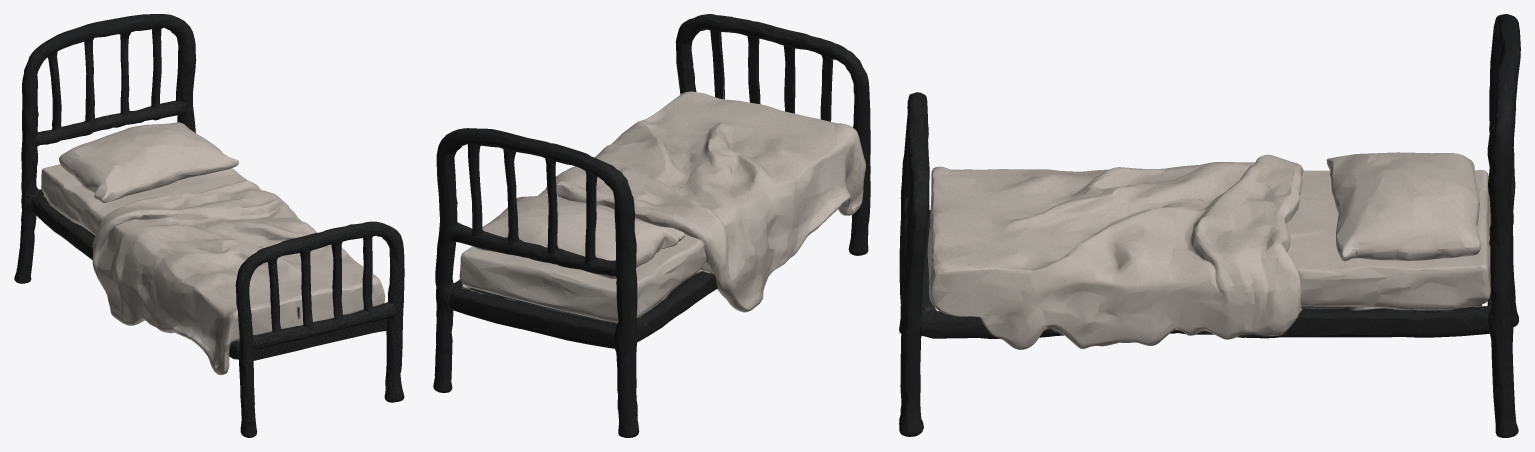
Rendered from letto_ferro.glb.
3 renders of one model, left to right at view 1: azimuth 30°, elevation 25°; view 2: azimuth 150°, elevation 25°; view 3: azimuth 270°, elevation 25°, orthographic. The views are drawn at different scales.
Parts seen in each view (by area): view 1: Mesh_0; view 2: Mesh_0; view 3: Mesh_0.
Part boxes in pixels (<box>): Mesh_0: <box>14,14,404,437</box>; Mesh_0: <box>433,14,870,437</box>; Mesh_0: <box>899,14,1520,437</box>.
Bounding box in the file's own units: 0.8899 × 1.13 × 1.9.
1 material, 1 textured.
